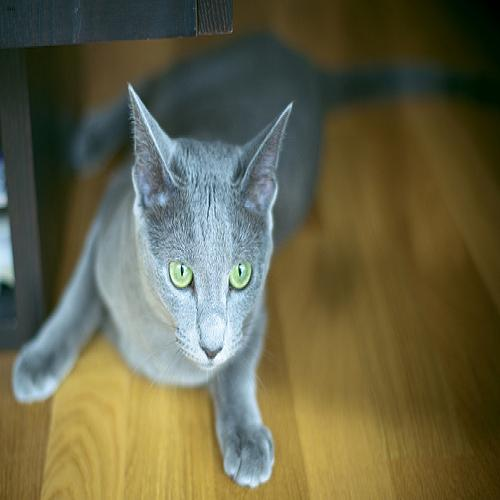rblue: (117, 83, 300, 384)
